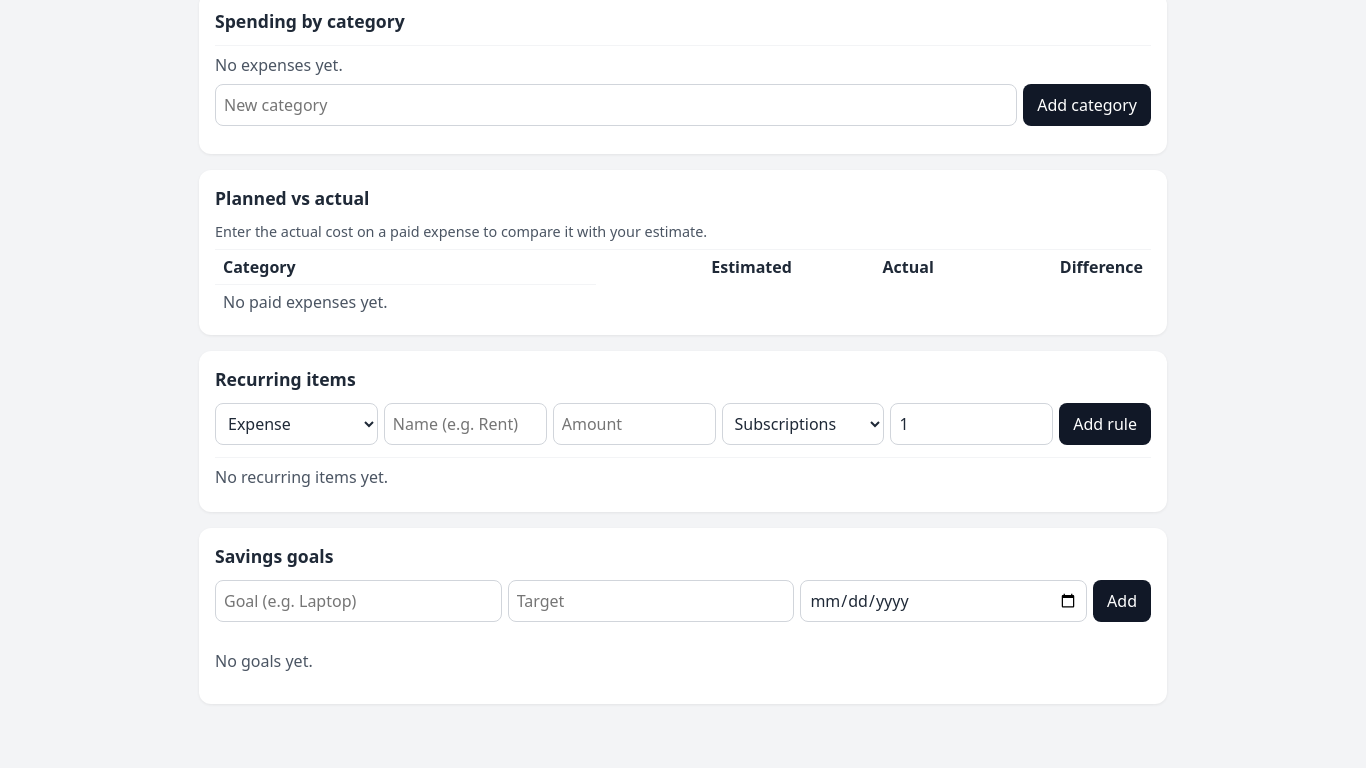
Test: App › generates recurring entries without duplicating them
(page scrolled)
Type "Netflix" into the field named "Recurring name". click: (465, 424)
box: [384,403,547,445]
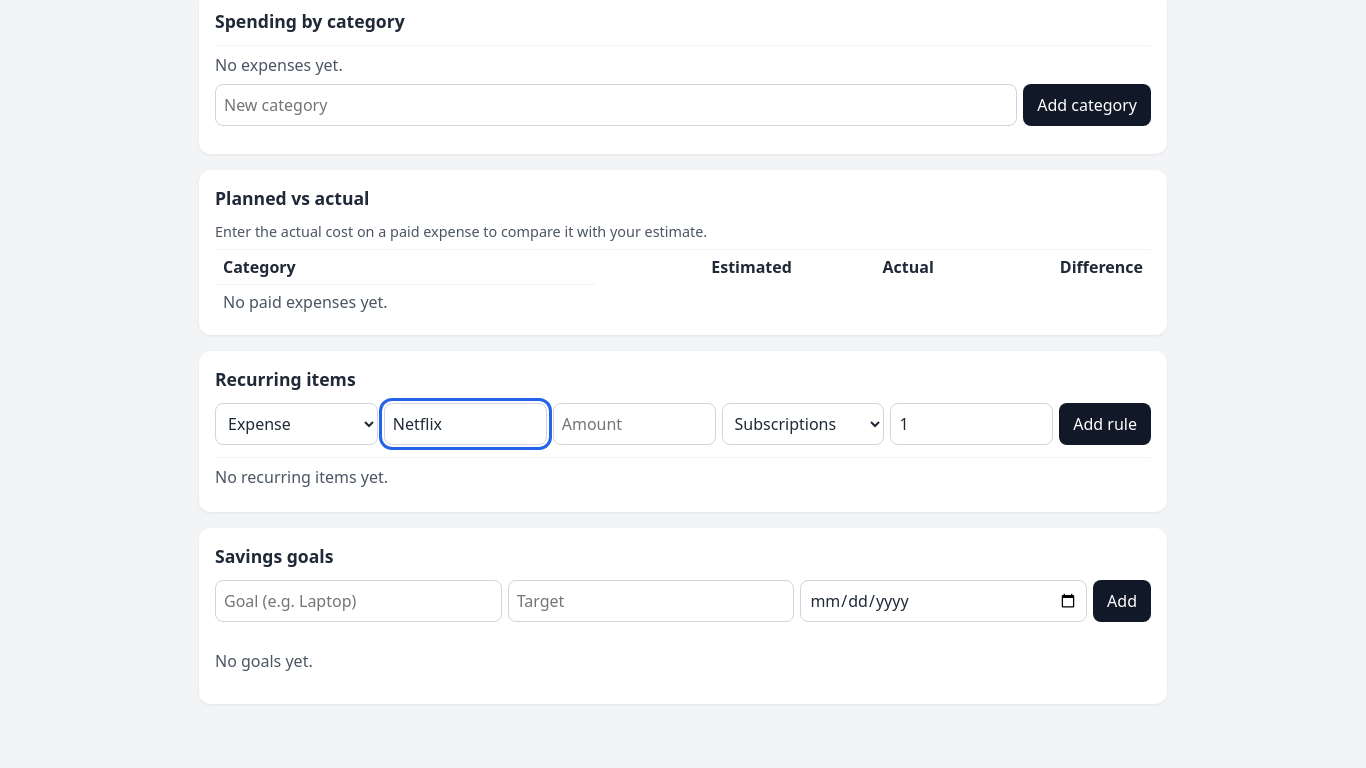
Type "8000" into the number field named "Recurring amount". click: (634, 424)
box: [553,403,716,445]
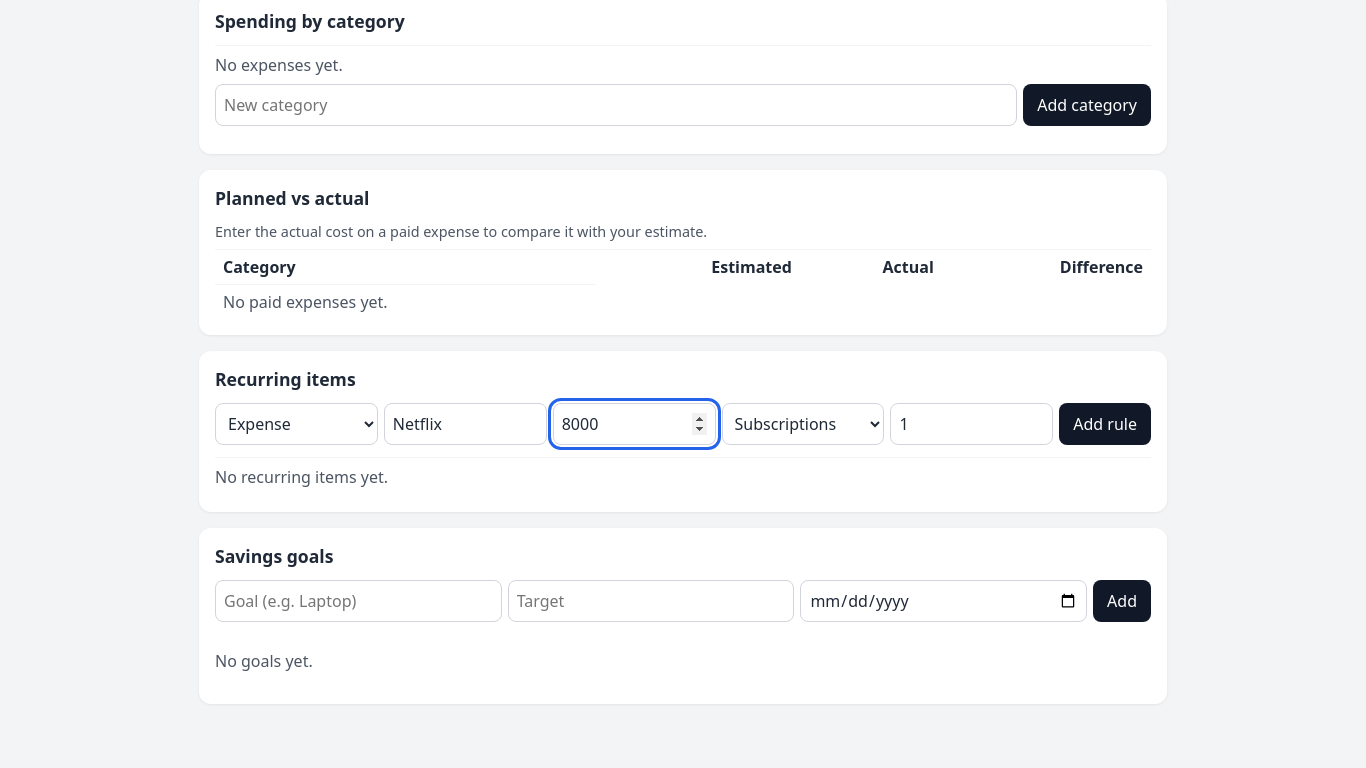
Click the button "Add rule". click: (1105, 424)
box: [1059,403,1151,445]
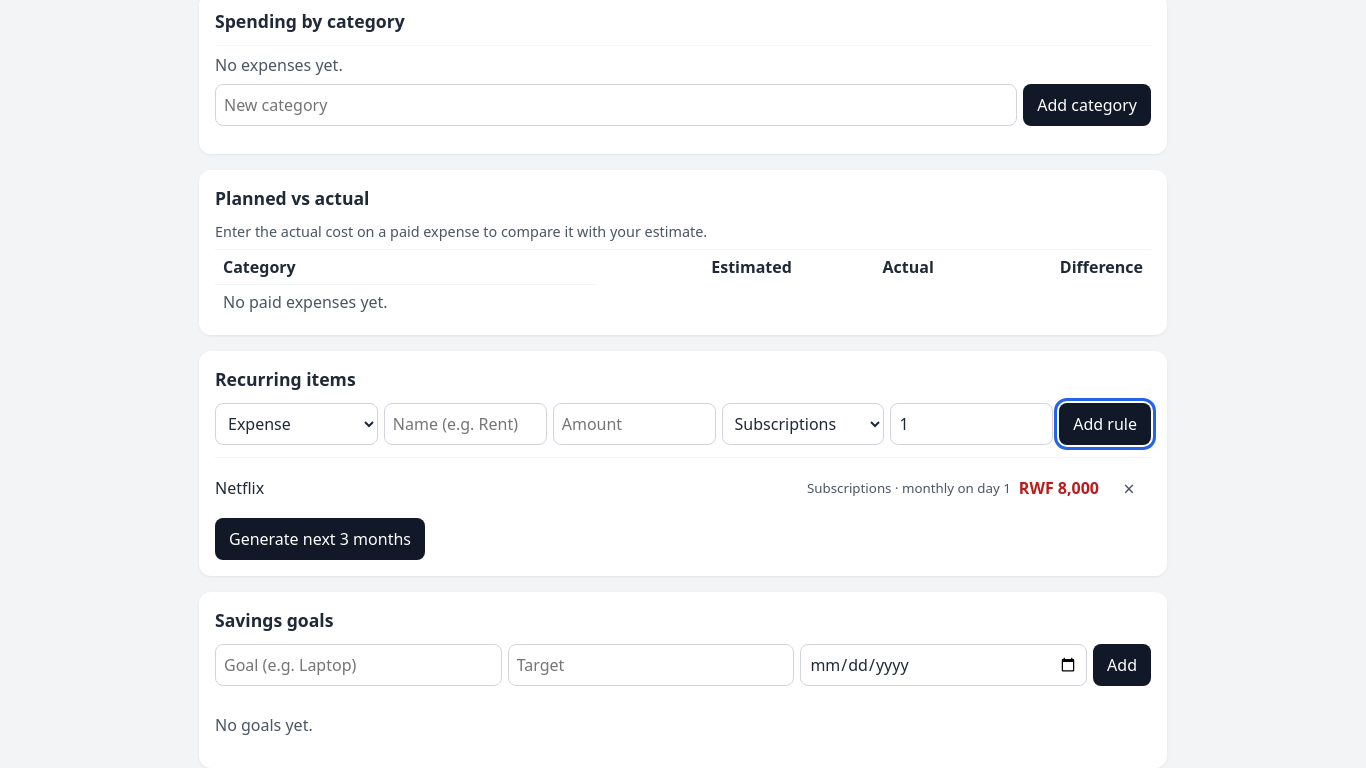
Click the button "Generate next 3 months". click: (320, 539)
box: [215,518,425,560]
(page scrolled)
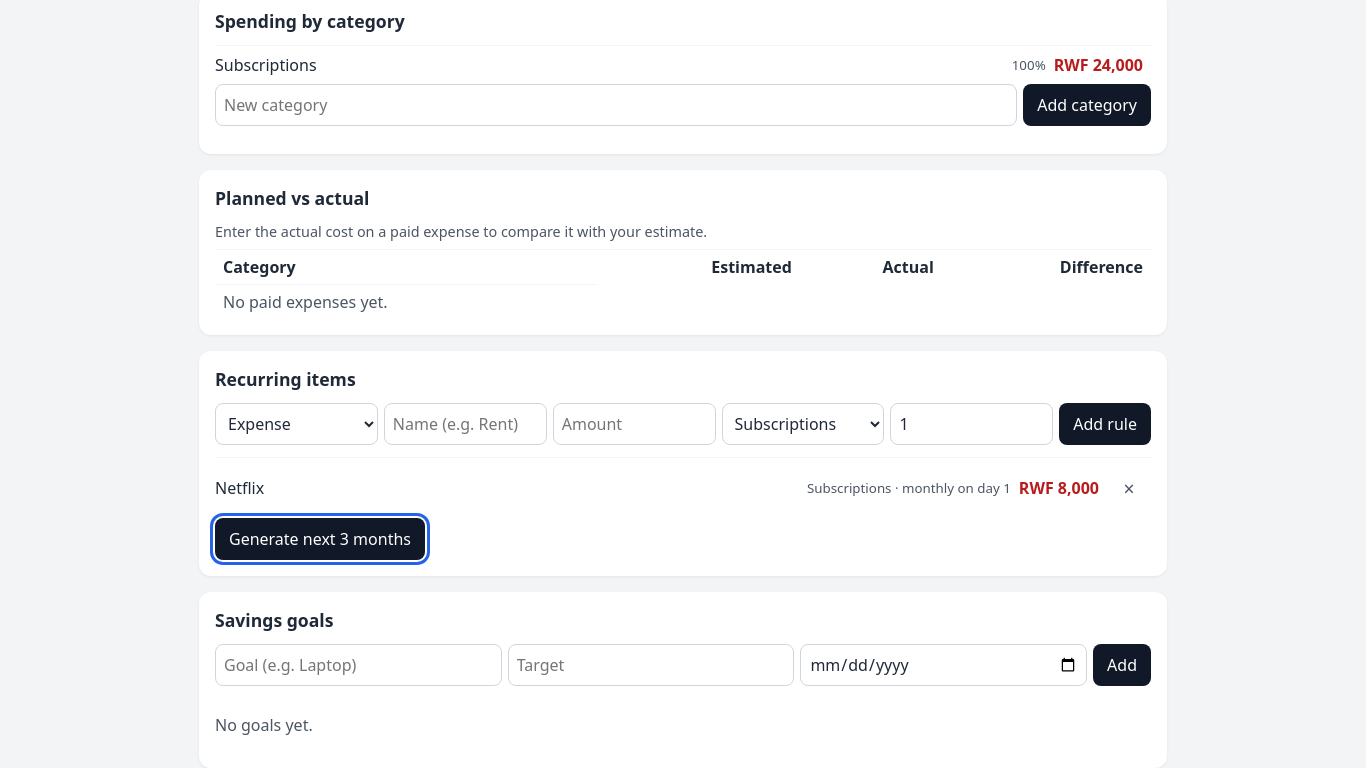
Click the button "Generate next 3 months". click: (320, 539)
box: [215,518,425,560]
(page scrolled)
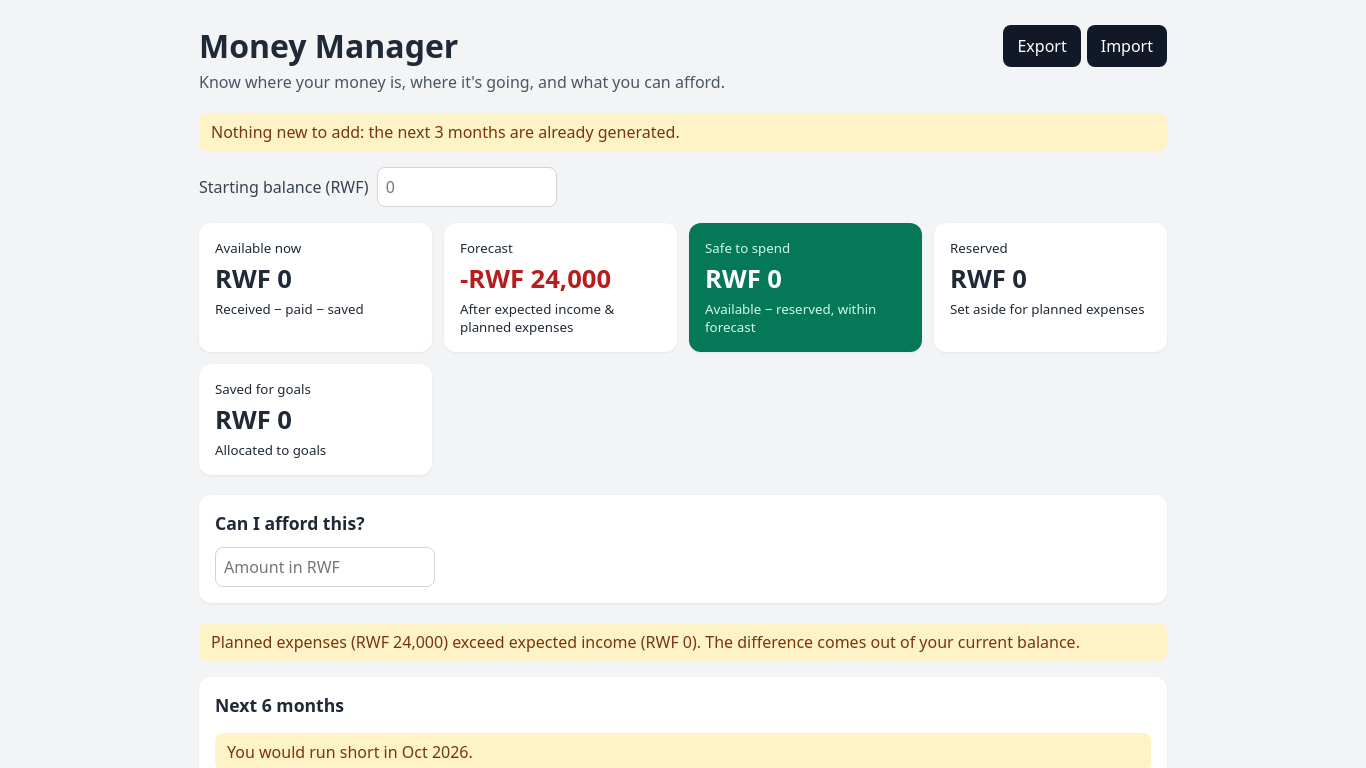
expect the message "Nothing new to add: the next 3 months are already generated." is shown: met, box [199,113,1167,151]
